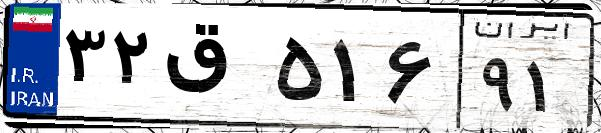1: (330, 28, 385, 110), (525, 38, 570, 115)
2: (110, 28, 158, 98)
3: (57, 26, 110, 100)
5: (270, 28, 330, 110)
6: (385, 28, 445, 110)
9: (475, 38, 525, 113)
ق: (158, 20, 270, 120)
